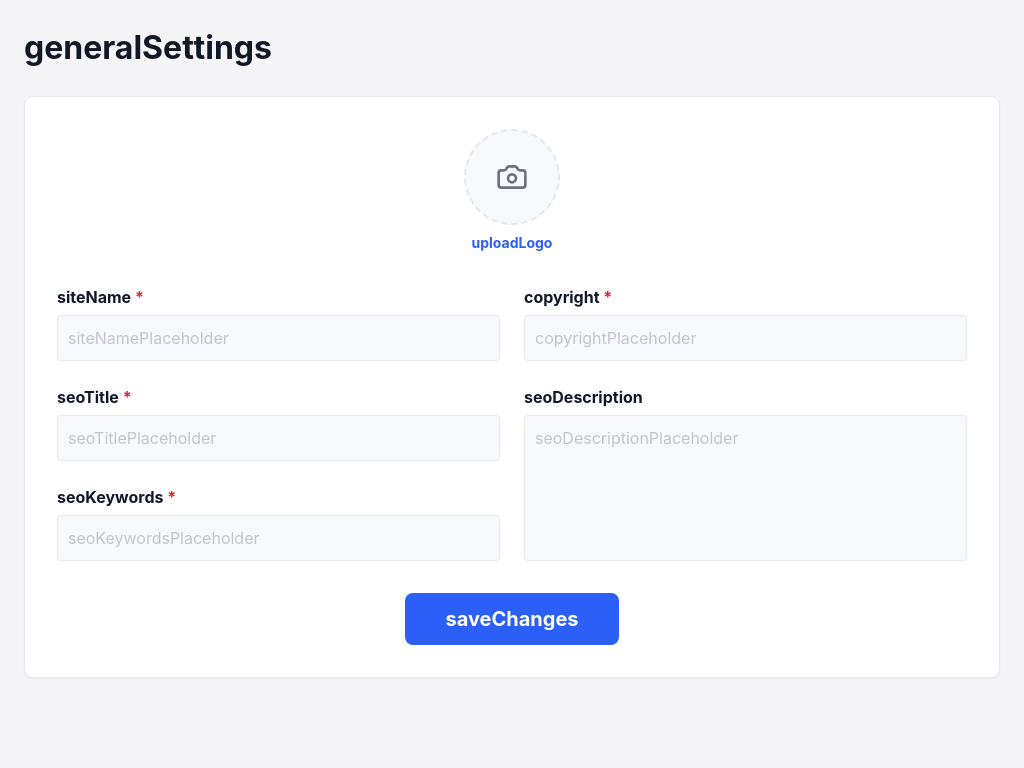
it: Settings › save behavior › shows loading state on save button after clicking with valid data
Note: Fill required fields
Type "My Site" into the field labelled "siteName *". click: (278, 338)
box: [57, 315, 500, 361]
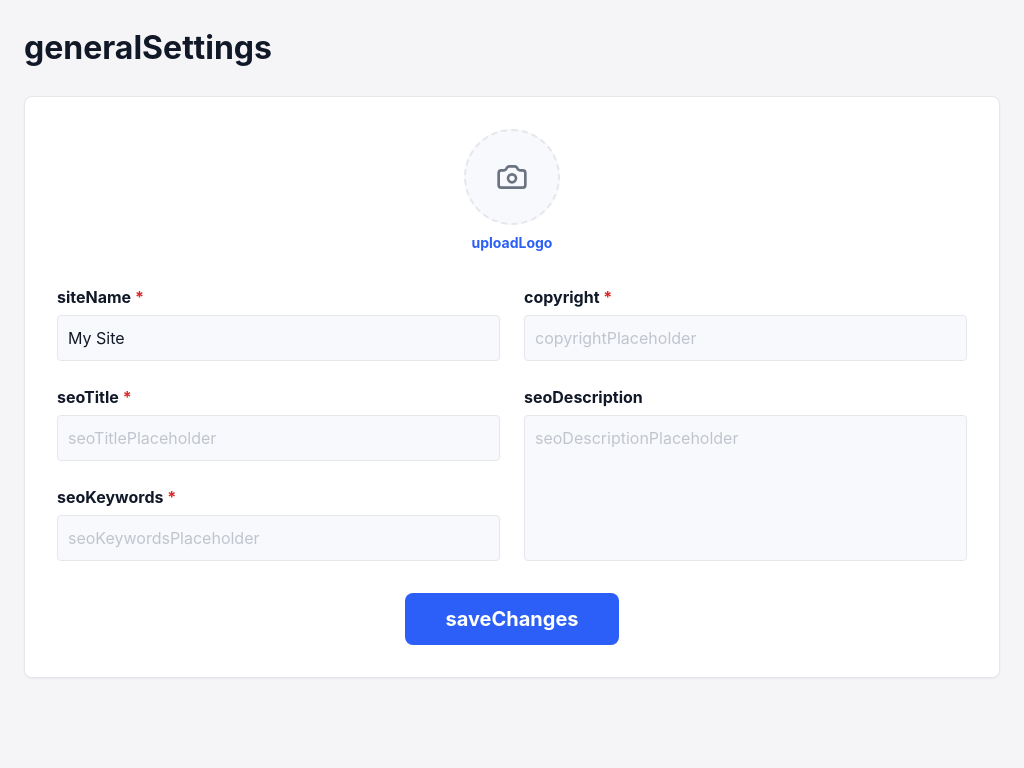
Type "2026 My Company" into the field labelled "copyright *". click: (746, 338)
box: [524, 315, 967, 361]
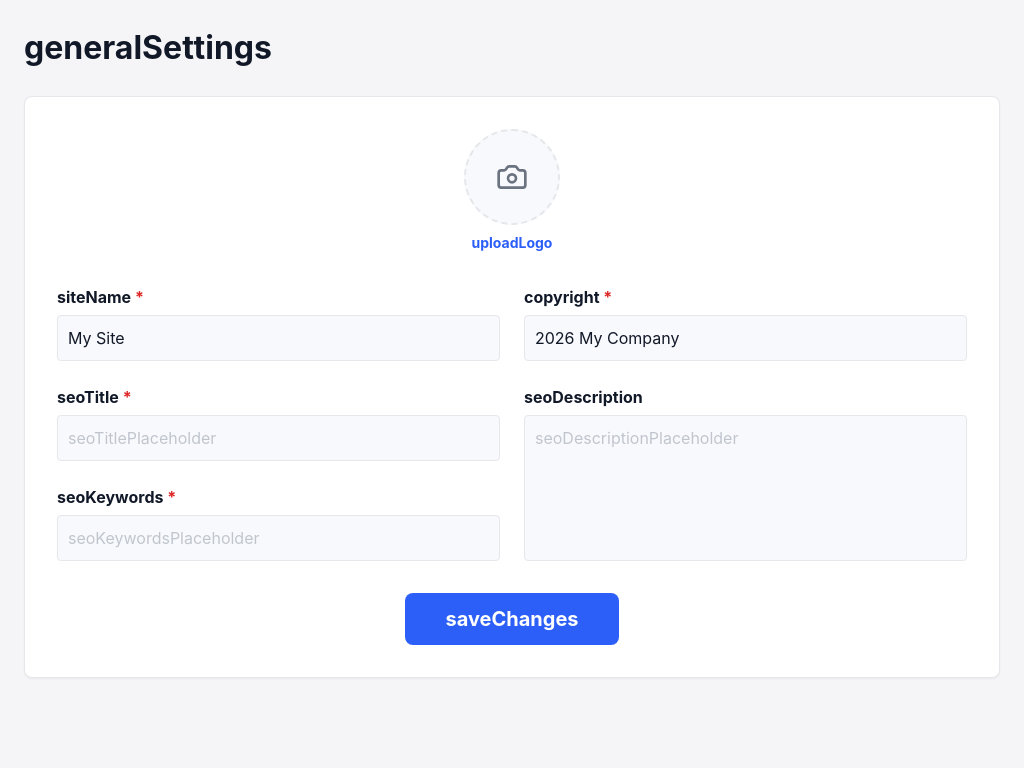
Type "My SEO Title" into the field labelled "seoTitle *". click: (278, 438)
box: [57, 415, 500, 461]
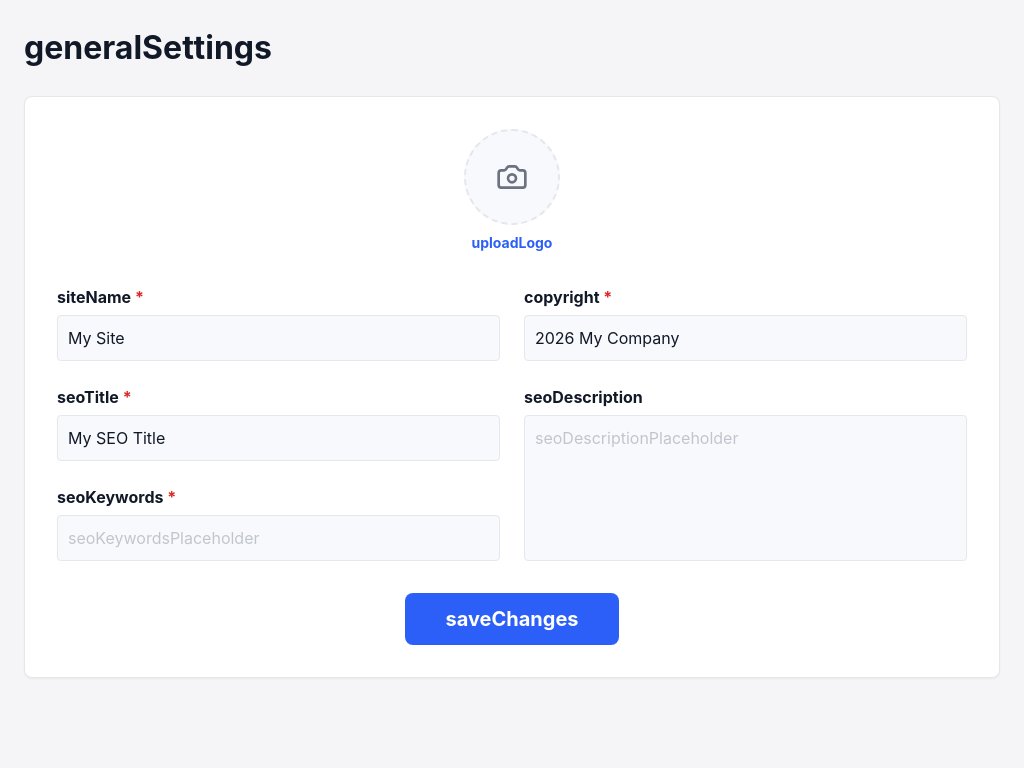
Type "dashboard, admin" into the field labelled "seoKeywords *". click: (278, 538)
box: [57, 515, 500, 561]
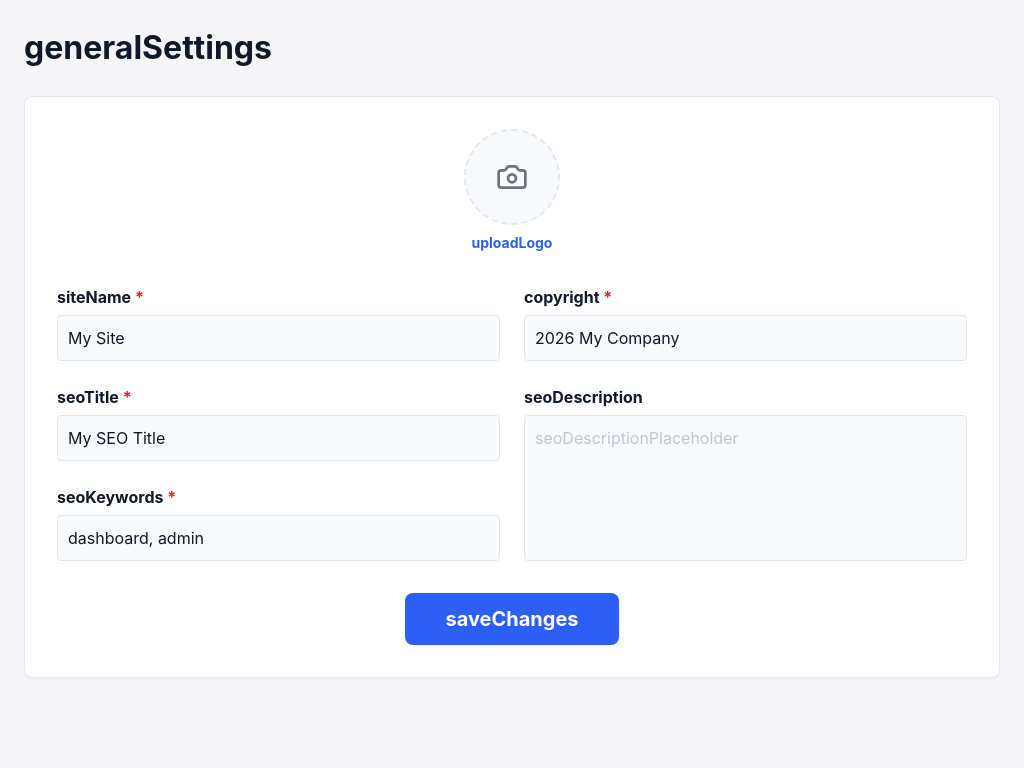
Click the button "saveChanges". click: click(512, 619)
box: [406, 593, 619, 645]
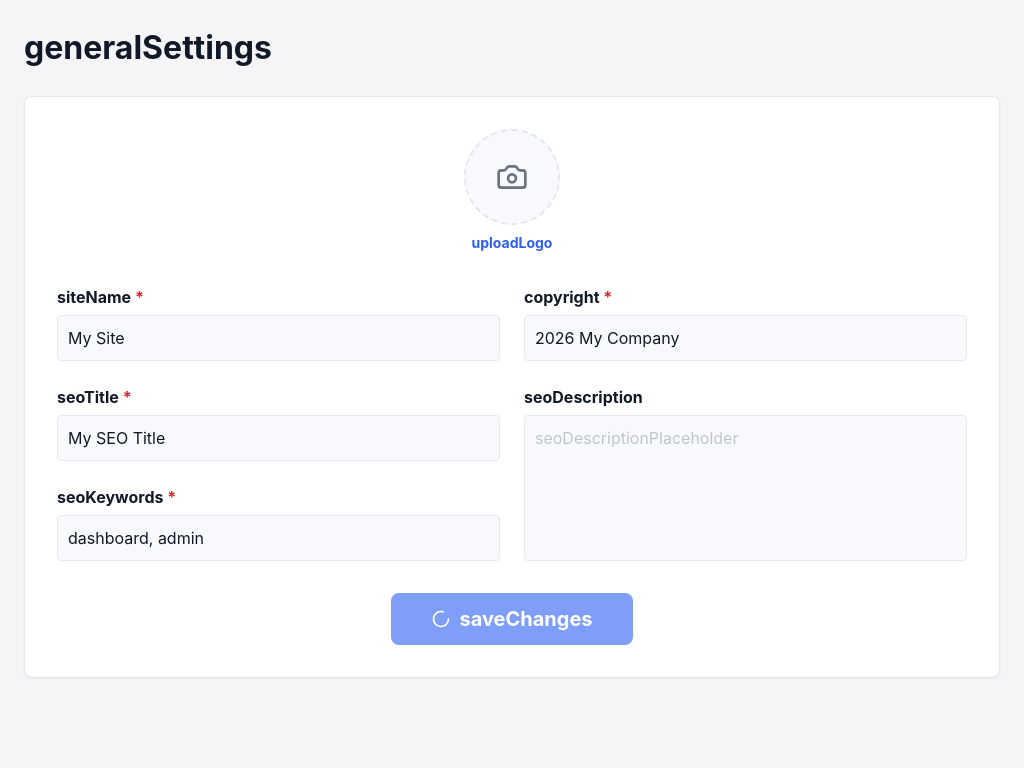
expect the button "saveChanges" is disabled: met, box [392, 593, 633, 645]
